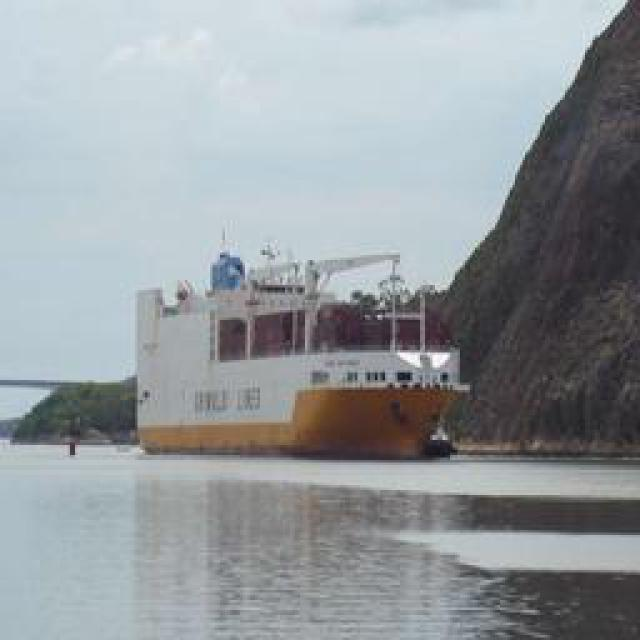Ship: (135, 230, 470, 458)
